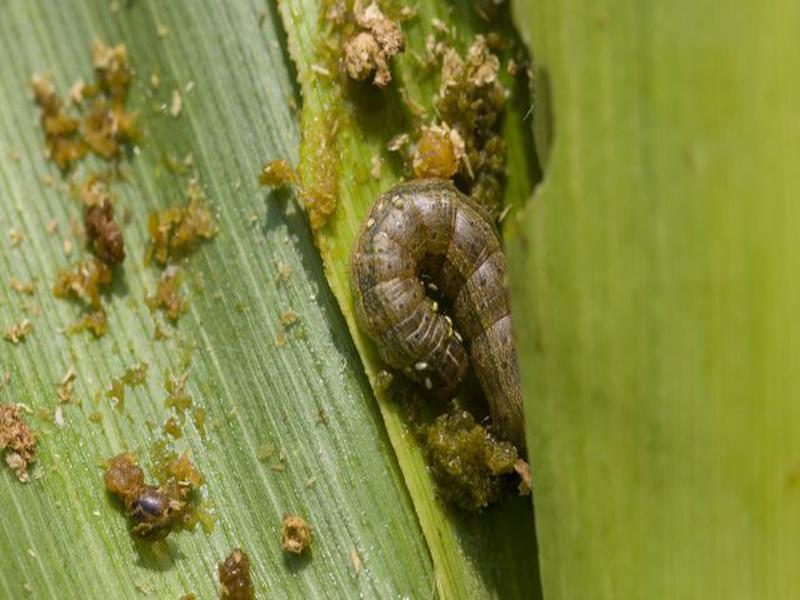Rice_case_worm: (340, 155, 579, 523)
